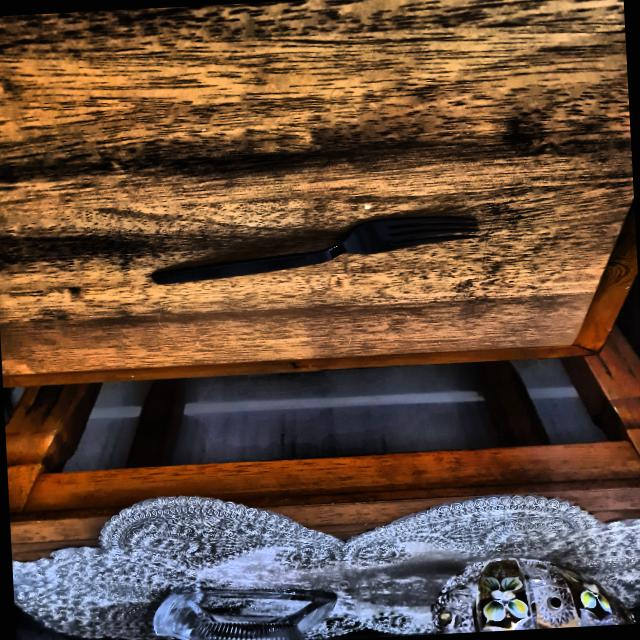plastic utensil: (144, 207, 486, 288)
